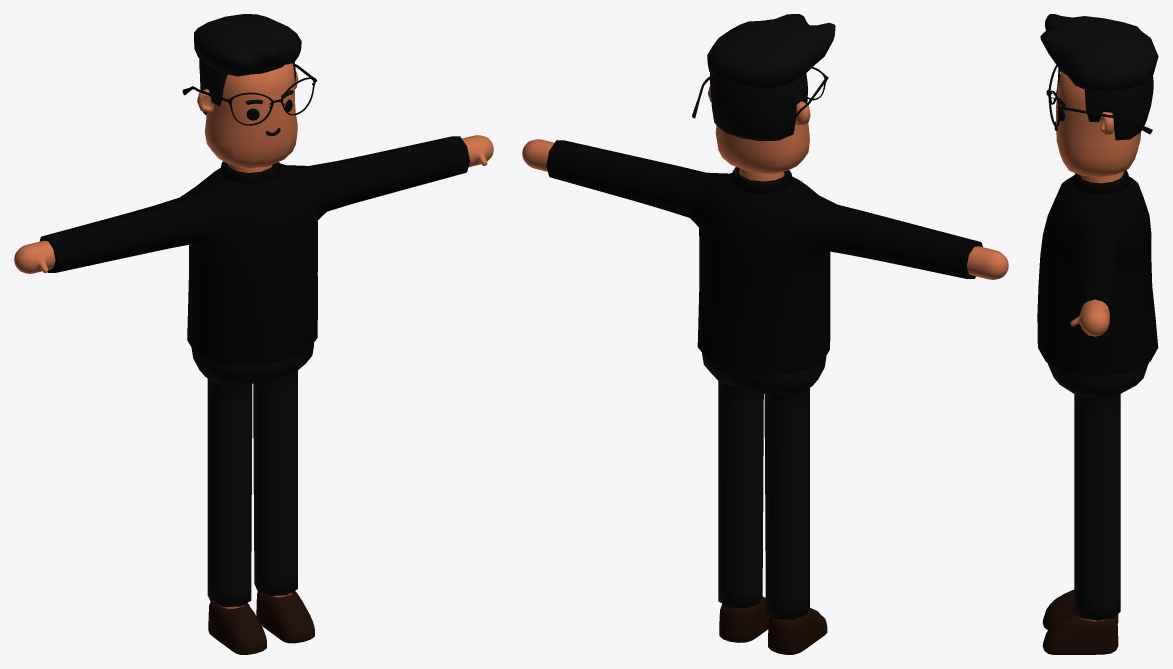
File: businessman.obj
3 renders of one model, left to right at view 1: azimuth 30°, elevation 25°; view 2: azimuth 150°, elevation 25°; view 3: azimuth 270°, elevation 25°, orthographic.
Parts seen in each view (by area): view 1: Char_Tshirt, Char_Pant, Char_Head, Char_Hair, Char_Shoe_R, Char_Shoe_L, Char_Hand_R, glasses, Char_Hand_L; view 2: Char_Tshirt, Char_Pant, Char_Hair, Char_Head, Char_Shoe_R, Char_Shoe_L, Char_Hand_R, Char_Hand_L; view 3: Char_Tshirt, Char_Pant, Char_Hair, Char_Head, Char_Shoe_L, Char_Hand_L, Char_Shoe_R, glasses.
Boxes of the visible parts, x1,y1,x2,y2 form: Char_Tshirt: (39,136,469,364); Char_Pant: (191,343,313,607); Char_Head: (197,63,298,172); Char_Hair: (194,14,301,114); Char_Shoe_R: (208,602,266,654); Char_Shoe_L: (256,591,314,643); Char_Hand_R: (14,240,55,273); glasses: (182,64,317,125); Char_Hand_L: (462,135,493,167); Char_Tshirt: (546,140,982,374); Char_Pant: (702,353,826,619); Char_Hair: (707,14,835,141); Char_Head: (708,85,810,181); Char_Shoe_R: (768,608,827,654); Char_Shoe_L: (719,596,770,642); Char_Hand_R: (966,246,1008,279); Char_Hand_L: (522,139,554,171); Char_Tshirt: (1037,170,1158,375); Char_Pant: (1047,362,1148,620); Char_Hair: (1040,14,1158,140); Char_Head: (1056,71,1140,183); Char_Shoe_L: (1042,612,1118,654); Char_Hand_L: (1070,299,1109,336); Char_Shoe_R: (1042,589,1118,629); glasses: (1046,65,1152,134).
Size of the model in its own units: 1.4 by 1.7 by 0.3091.
